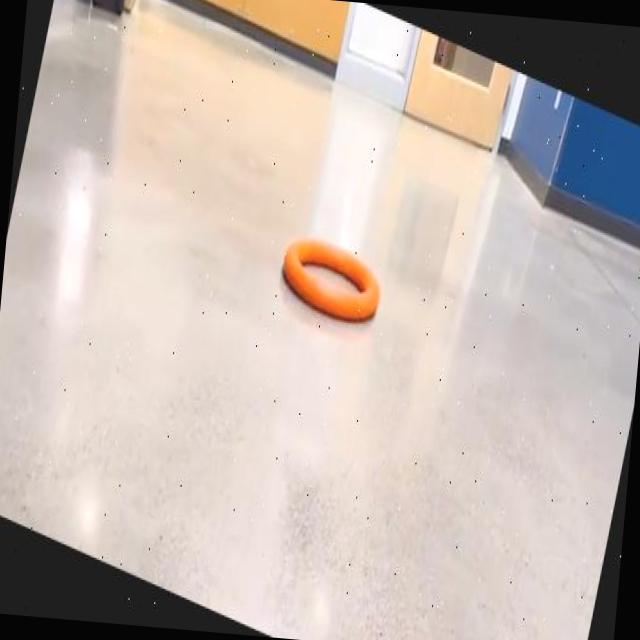note: (282, 238, 380, 317)
